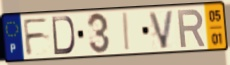3: (86, 11, 111, 56)
D: (50, 15, 77, 56)
F: (21, 16, 50, 58)
I: (122, 11, 132, 53)
R: (176, 8, 207, 50)
V: (147, 9, 176, 51)
